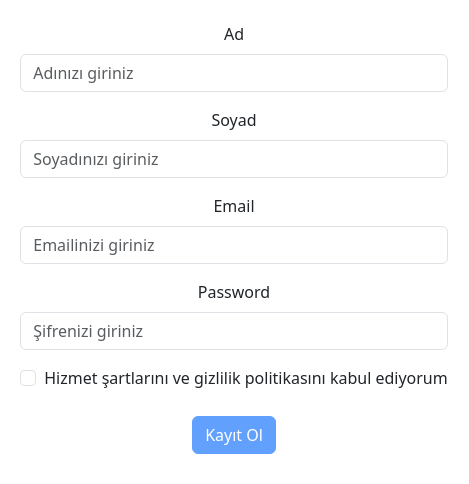
Test: Kayıt Sayfası › Olumsuz Testler › Ad girişi yanlış mı?
Type "Ha" into the field with test id "input-ad" at (234, 73), box [20, 54, 448, 92]
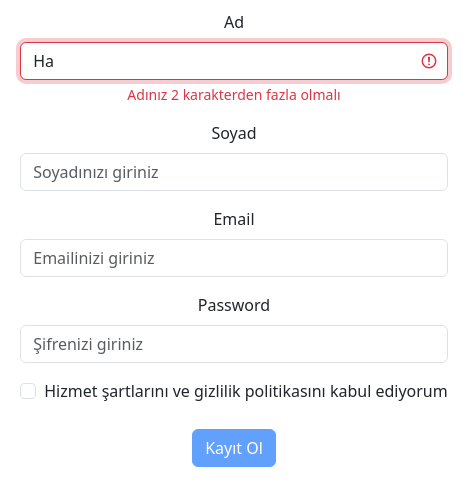
Check: the text "Adınız 2 karakterden fazla olmalı" is shown, box [127, 84, 341, 104]
